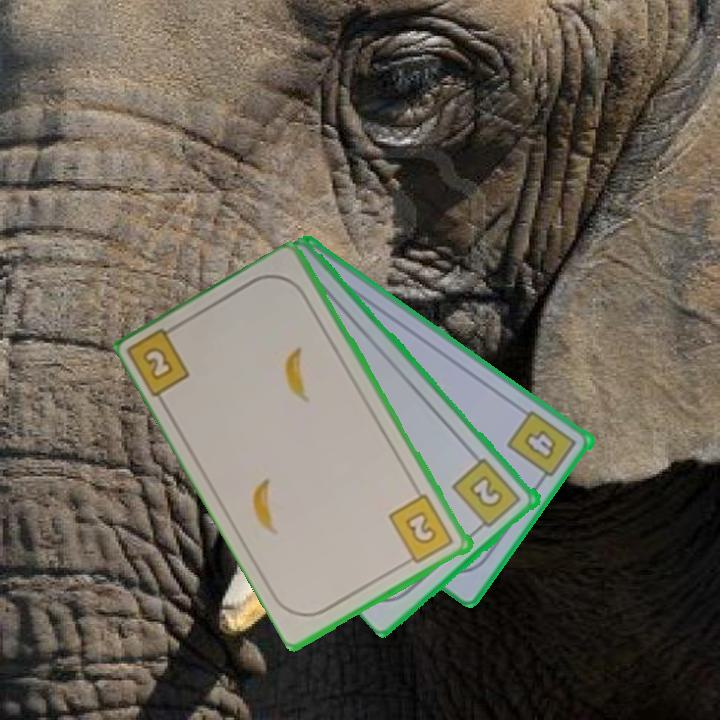2b: (449, 455, 525, 535), (127, 319, 194, 402), (385, 491, 457, 568)
4b: (504, 407, 581, 487)
